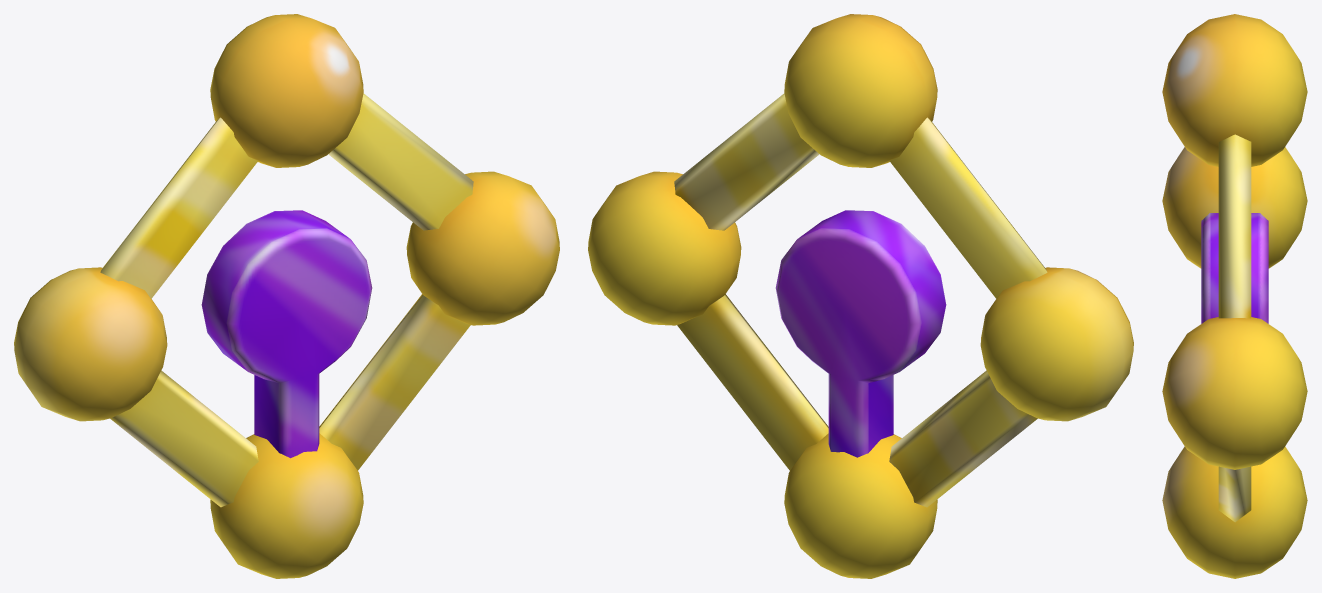
File: Crypto_B.fbx
3 renders of one model, left to right at view 1: azimuth 30°, elevation 25°; view 2: azimuth 150°, elevation 25°; view 3: azimuth 270°, elevation 25°, orthographic.
Visible parts, largest first — view 1: Crypto_B; view 2: Crypto_B; view 3: Crypto_B.
Part boxes in pixels (left/top/right/bottom): Crypto_B: left=14, top=14, right=559, bottom=578; Crypto_B: left=588, top=14, right=1133, bottom=578; Crypto_B: left=1162, top=14, right=1307, bottom=578.
Size of the model in its own units: 348 by 348 by 83.38.
1 material, 1 textured.
